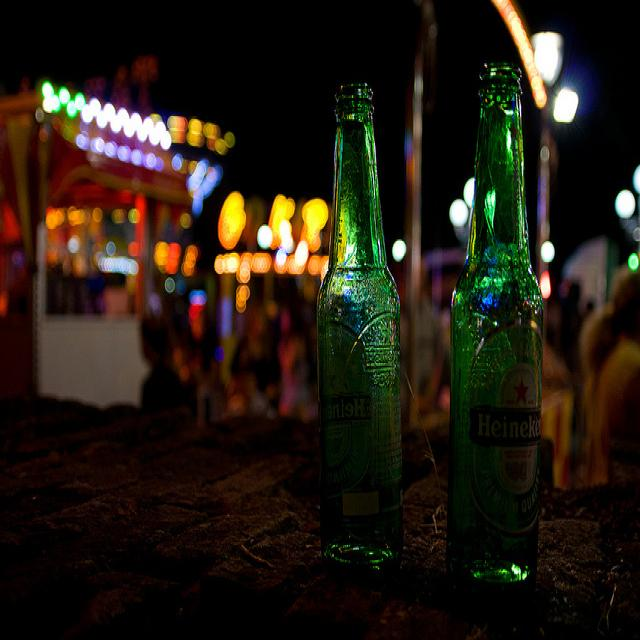Bottle: (444, 62, 547, 599), (315, 65, 418, 574)
